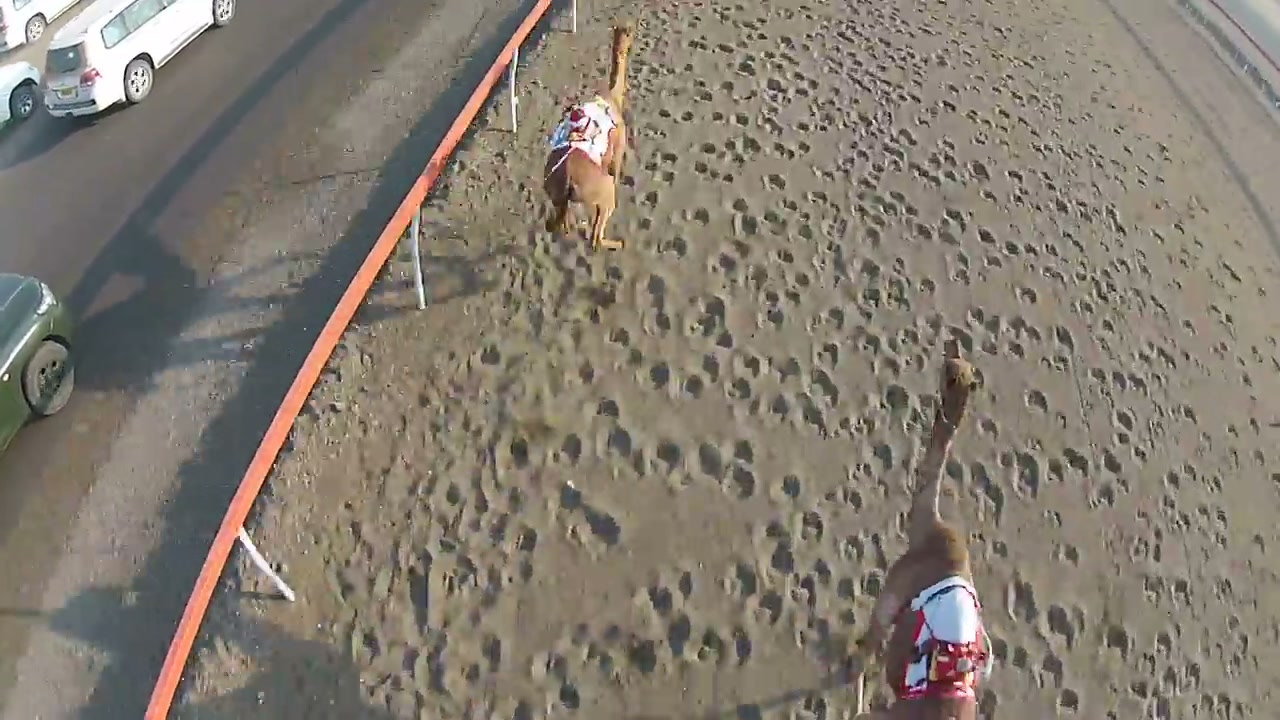animal_foot_print: (203, 0, 1279, 719)
